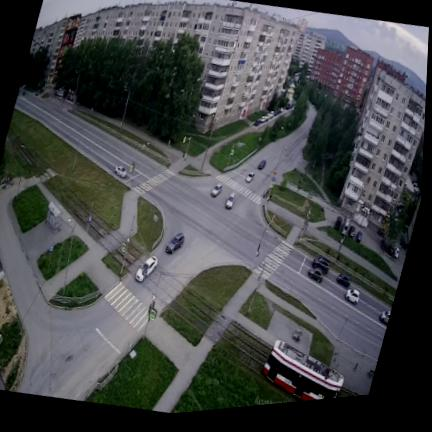bench: (294, 329, 303, 342), (368, 369, 374, 377)
busStop: (46, 202, 61, 232)
busStopSign: (85, 202, 93, 244), (48, 246, 54, 271)
car: (135, 256, 158, 282), (166, 233, 185, 254), (112, 164, 129, 180), (313, 257, 330, 273), (308, 267, 323, 282), (345, 289, 359, 304), (337, 275, 351, 288), (226, 193, 236, 209), (211, 183, 222, 197), (380, 310, 390, 324), (334, 216, 342, 229), (348, 225, 355, 238), (257, 160, 266, 170), (246, 173, 254, 182), (356, 231, 362, 242)
garbageBin: (354, 363, 358, 369)
human: (258, 272, 262, 280), (168, 141, 170, 147)
lightPole: (201, 116, 215, 170), (72, 122, 83, 171), (120, 86, 131, 132), (336, 228, 348, 259), (64, 254, 70, 294)
pedestianCross: (105, 282, 148, 330), (256, 241, 293, 279), (216, 175, 261, 205), (134, 170, 174, 195)
pedestrianSign: (120, 237, 130, 274)
sign: (151, 215, 158, 238)
trafficLight: (252, 217, 274, 269), (267, 147, 283, 201), (128, 143, 148, 186), (299, 209, 310, 240), (146, 296, 156, 329), (183, 136, 191, 163), (228, 145, 234, 166)
trolley: (263, 340, 344, 400)
truck: (342, 216, 350, 235)
